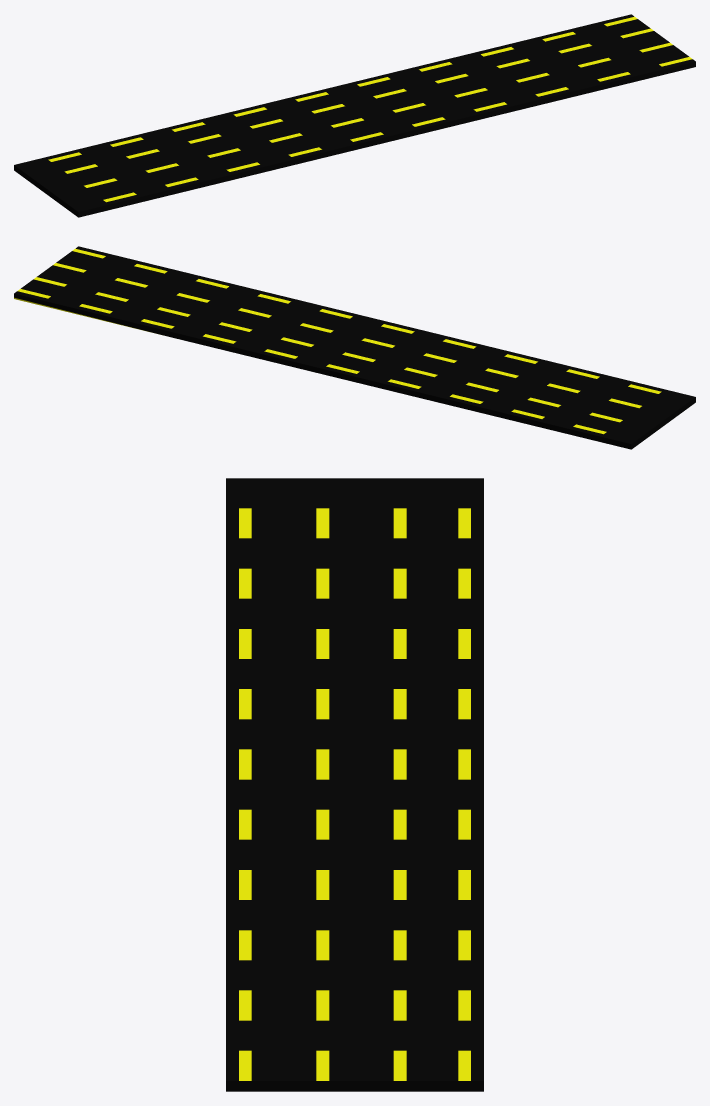
File: Calle.fbx
The picture shows the model from 3 angles, top to bottom: view 1: azimuth 30°, elevation 25°; view 2: azimuth 150°, elevation 25°; view 3: azimuth 270°, elevation 25°; orthographic projection. The views are drawn at different scales.
Parts seen in each view (by area): view 1: Cube; view 2: Cube; view 3: Cube.
Boxes of the visible parts, box(x1,y1,x2,y2) form: Cube: box(14, 14, 695, 217); Cube: box(14, 246, 695, 449); Cube: box(226, 478, 483, 1091).
Size of the model in its own units: 3303 by 28.06 by 598.
1 material, 1 textured.
